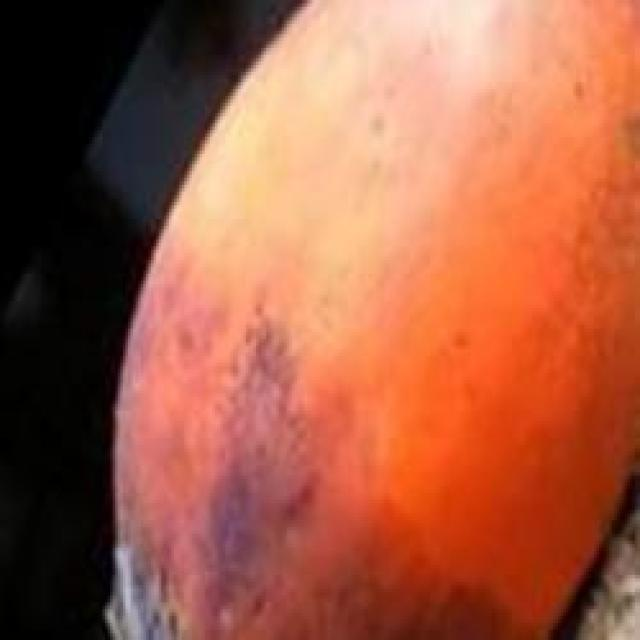good: (102, 0, 637, 637)
